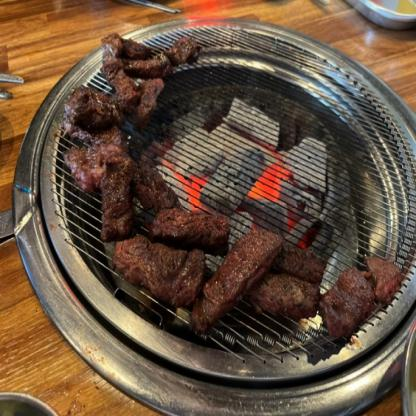Carne: (198, 224, 282, 324), (121, 228, 202, 310), (150, 201, 232, 259), (63, 126, 130, 192), (110, 34, 210, 78), (316, 268, 374, 342), (92, 151, 136, 242), (250, 273, 328, 323), (96, 31, 141, 111), (273, 242, 337, 289), (68, 85, 130, 132), (129, 160, 176, 218), (367, 248, 402, 296), (133, 68, 161, 126)
